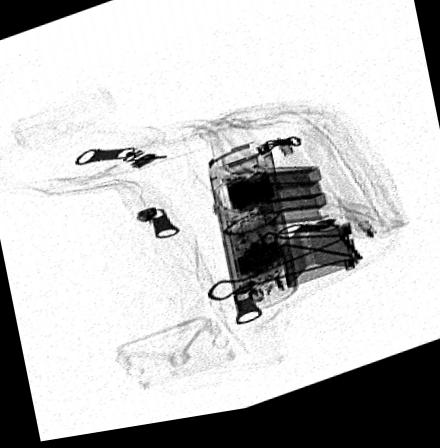Baton: (204, 146, 299, 324)
